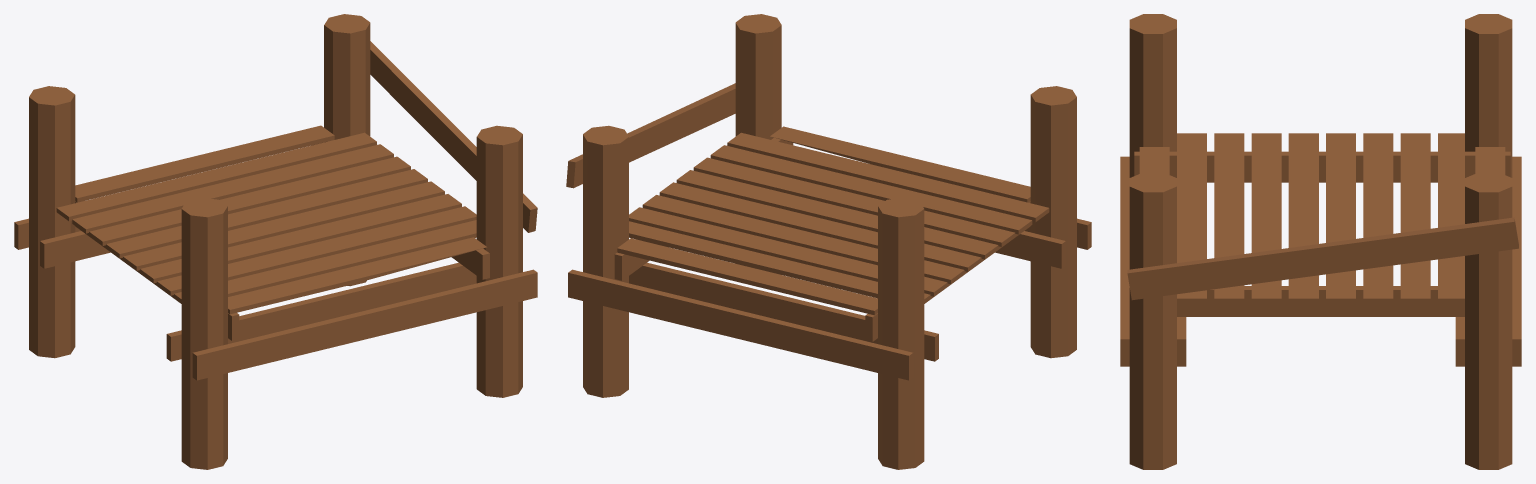
The model's file is Barrier Dock 2.fbx.
3 renders of one model, left to right at view 1: azimuth 30°, elevation 25°; view 2: azimuth 150°, elevation 25°; view 3: azimuth 270°, elevation 25°, orthographic. The views are drawn at different scales.
Visible parts, largest first — view 1: Barrier Dock 2; view 2: Barrier Dock 2; view 3: Barrier Dock 2.
Part boxes in pixels (<box>): Barrier Dock 2: <box>14,14,537,469</box>; Barrier Dock 2: <box>566,14,1091,469</box>; Barrier Dock 2: <box>1120,14,1521,469</box>.
Bounding box in the file's own units: 410 × 288 × 377.
